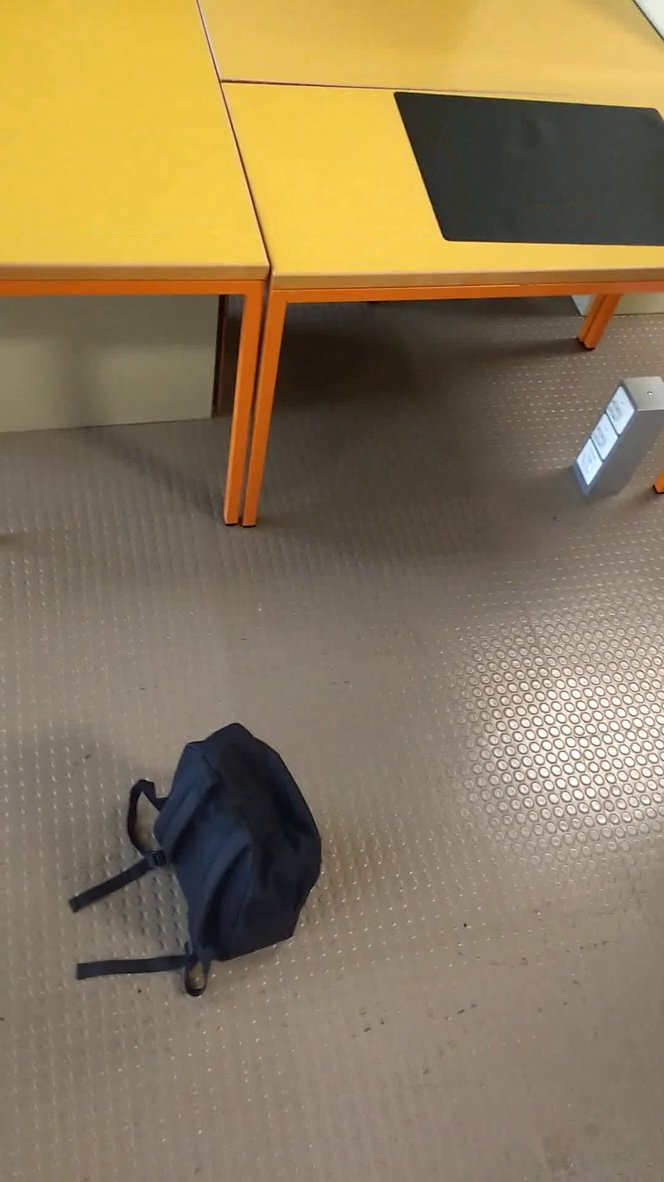bag: (64, 718, 334, 1006)
